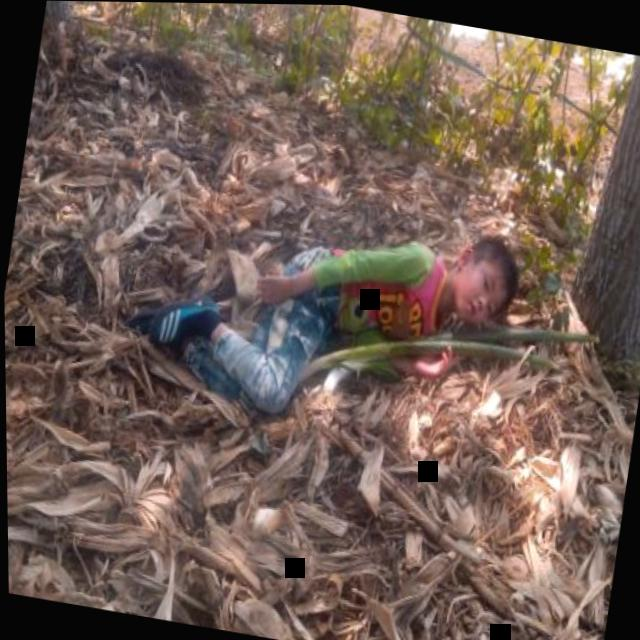Fall-Detected: (108, 151, 541, 456)
